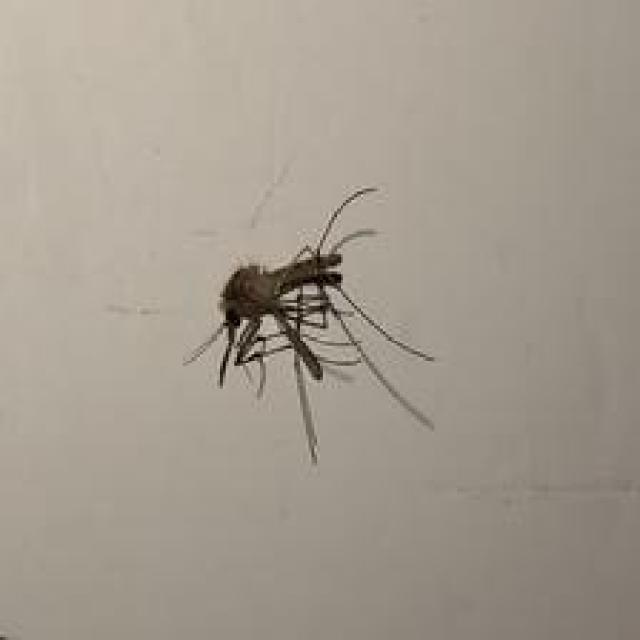Culex: (182, 183, 438, 466)
